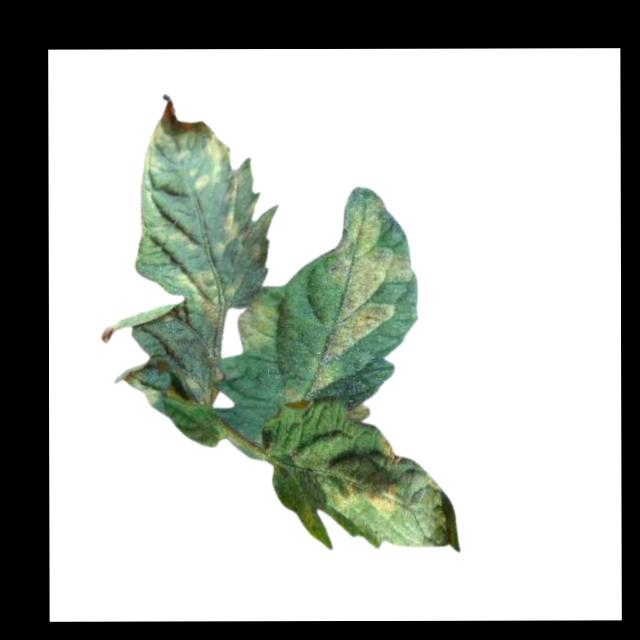Leaf_Mold: (307, 197, 413, 394), (140, 128, 222, 192), (322, 474, 398, 517), (224, 176, 262, 262), (174, 266, 224, 327), (232, 293, 277, 350), (377, 434, 404, 465), (279, 385, 310, 410), (298, 500, 314, 531)
